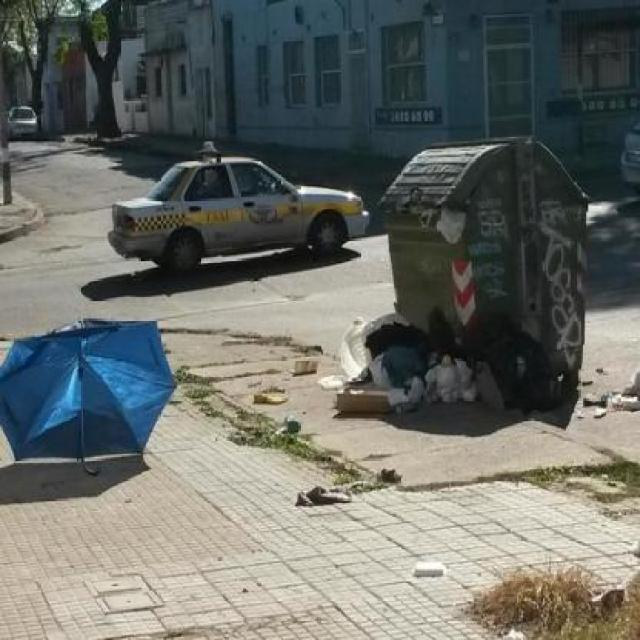garbage: (0, 313, 169, 489), (325, 318, 508, 416), (500, 329, 561, 414), (576, 359, 640, 429), (282, 480, 362, 520), (414, 200, 472, 244), (248, 386, 290, 413), (288, 348, 318, 378), (408, 559, 446, 582), (278, 413, 300, 440)
